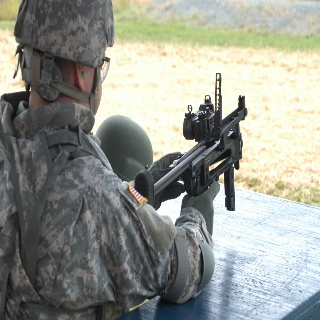rifle: (133, 72, 248, 212)
